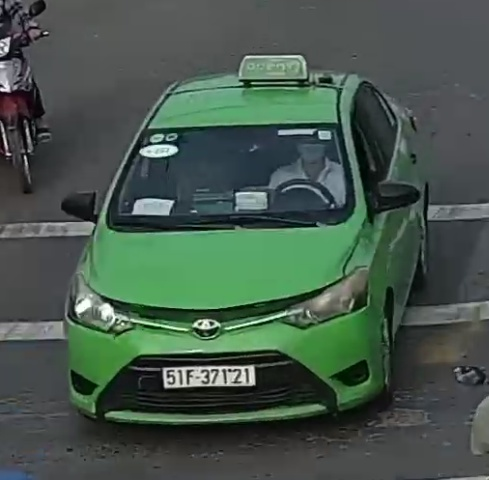vehicle plate: (160, 360, 260, 390)
